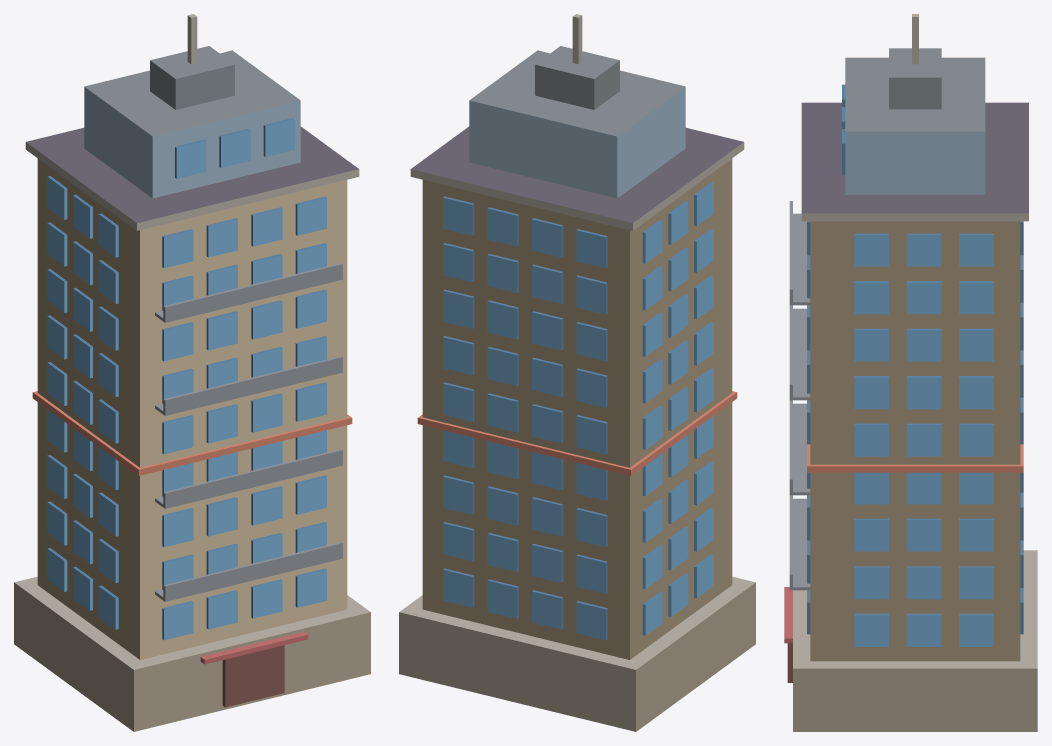
File: Highrise.fbx
3 views of the same model, side by side, from view 1: azimuth 30°, elevation 25°; view 2: azimuth 150°, elevation 25°; view 3: azimuth 270°, elevation 25° (orthographic). The views are drawn at different scales.
Visible parts, largest first — view 1: Highrise; view 2: Highrise; view 3: Highrise.
Boxes of the visible parts, left/top/right/bottom form: Highrise: left=14, top=14, right=370, bottom=731; Highrise: left=399, top=14, right=755, bottom=731; Highrise: left=784, top=14, right=1037, bottom=731.
Size of the model in its own units: 1600 by 4150 by 1450.
